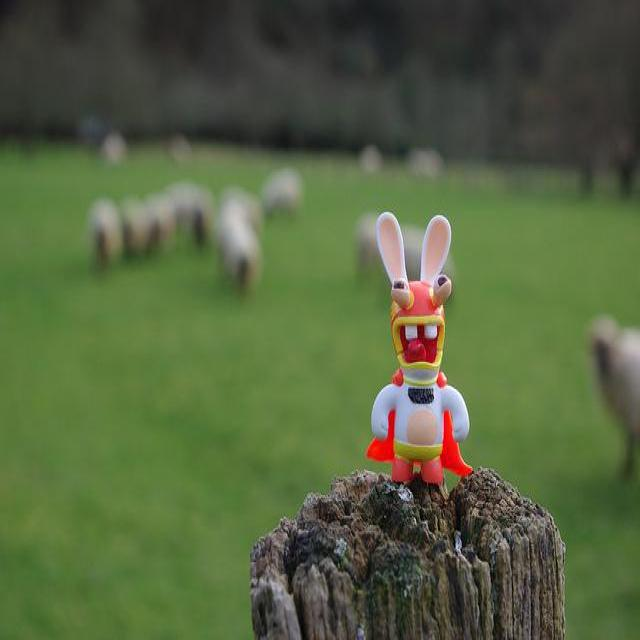Sheep: (588, 308, 639, 477), (356, 211, 459, 287), (214, 185, 266, 288), (163, 178, 212, 256), (86, 194, 126, 274), (259, 170, 304, 222), (122, 199, 159, 259), (146, 191, 179, 256)
